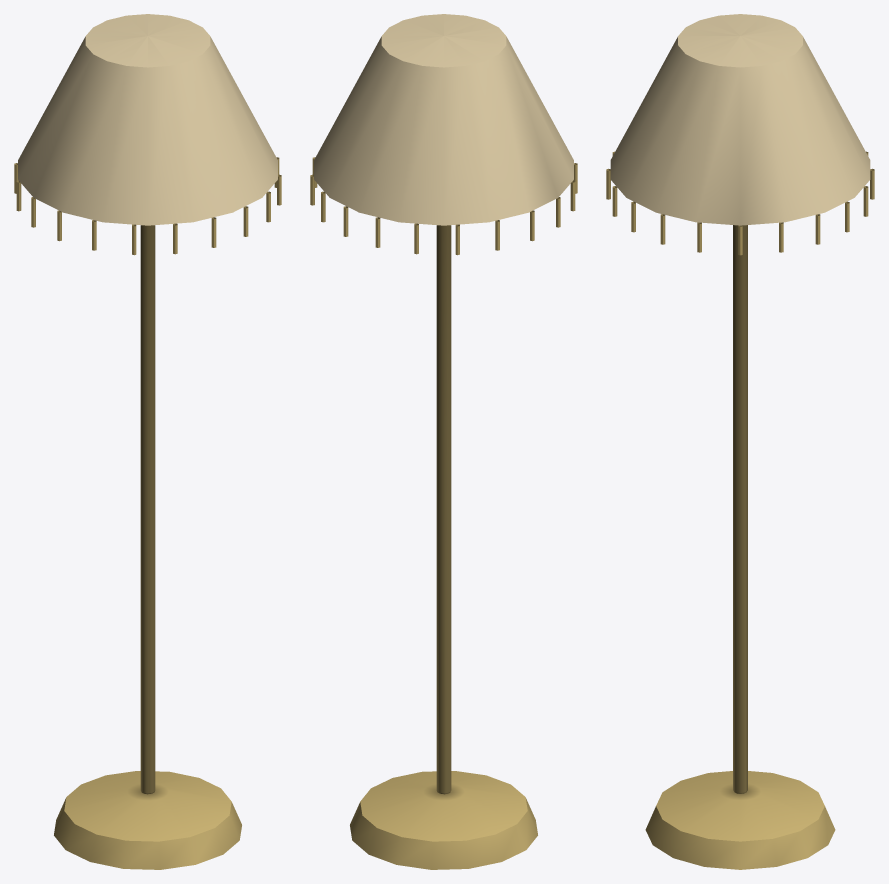
The model's file is lamp.glb.
The picture shows the model from 3 angles, left to right: view 1: azimuth 30°, elevation 25°; view 2: azimuth 150°, elevation 25°; view 3: azimuth 270°, elevation 25°; orthographic projection.
Parts seen in each view (by area): view 1: boat_shade, boat_gilt; view 2: boat_shade, boat_gilt; view 3: boat_shade, boat_gilt.
Boxes of the visible parts, <box> form: boat_shade: <box>18,14,277,225</box>; boat_gilt: <box>14,157,281,869</box>; boat_shade: <box>314,14,573,225</box>; boat_gilt: <box>310,157,577,869</box>; boat_shade: <box>610,14,870,225</box>; boat_gilt: <box>606,151,874,869</box>.
Bounding box in the file's own units: 0.51 × 1.66 × 0.5087.
